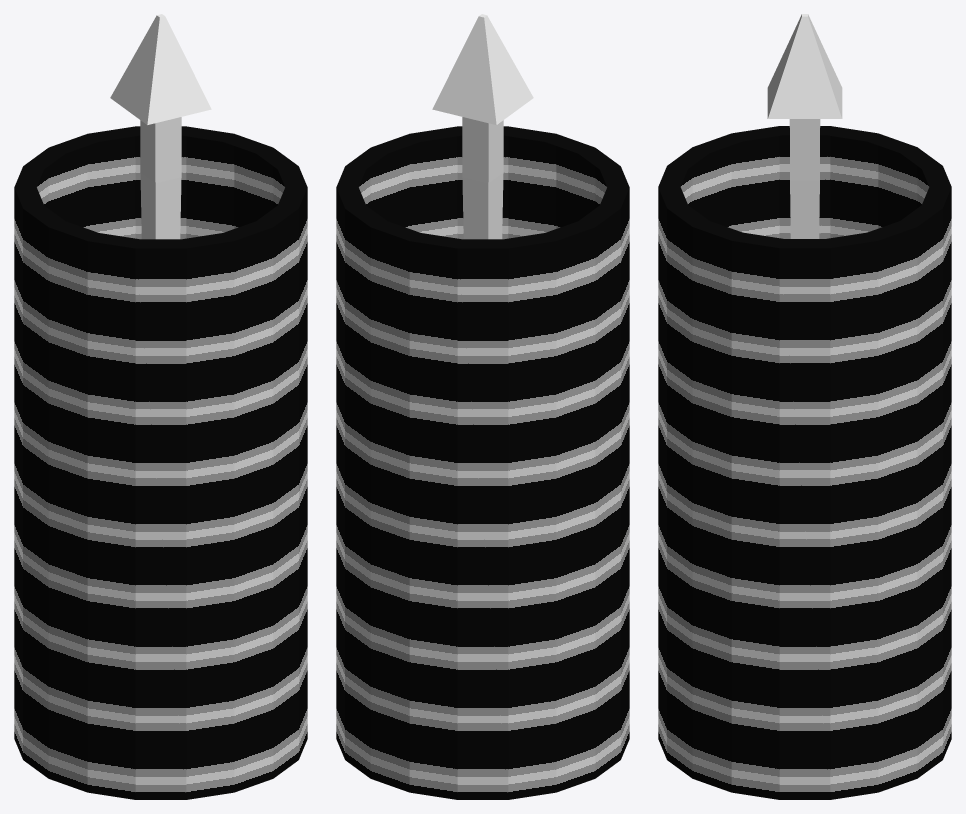
Rendered from PositionMarker.fbx.
3 views of the same model, side by side, from view 1: azimuth 30°, elevation 25°; view 2: azimuth 150°, elevation 25°; view 3: azimuth 270°, elevation 25° (orthographic).
Visible parts, largest first — view 1: PositionMarker; view 2: PositionMarker; view 3: PositionMarker.
Part boxes in pixels (left/top/right/bottom): PositionMarker: left=14, top=14, right=307, bottom=799; PositionMarker: left=336, top=14, right=629, bottom=799; PositionMarker: left=658, top=14, right=951, bottom=799.
Bounding box in the file's own units: 71.65 × 204 × 72.76.
1 material, 1 textured.
